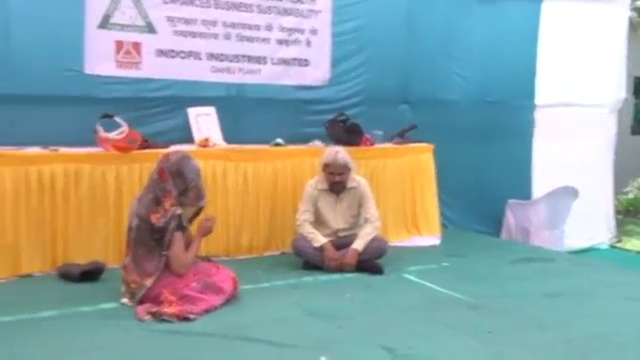helmet_off: (156, 151, 200, 198), (321, 150, 352, 198)
person: (119, 146, 237, 325), (288, 146, 390, 279)
